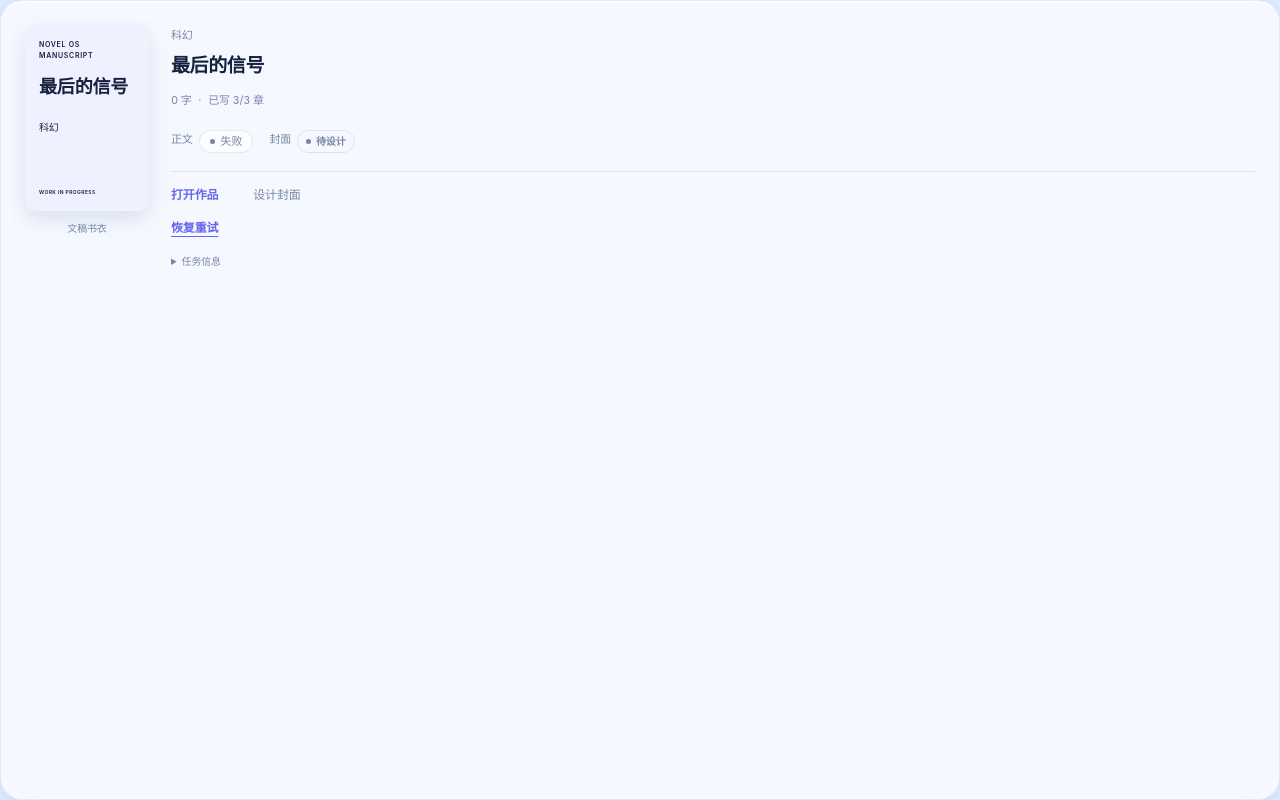
Test: keeps the failed card visible and retryable when resume fails
The width and height of the screenshot is (1280, 800).
Click the button "恢复重试" at (195, 228), box [171,215,218,241]
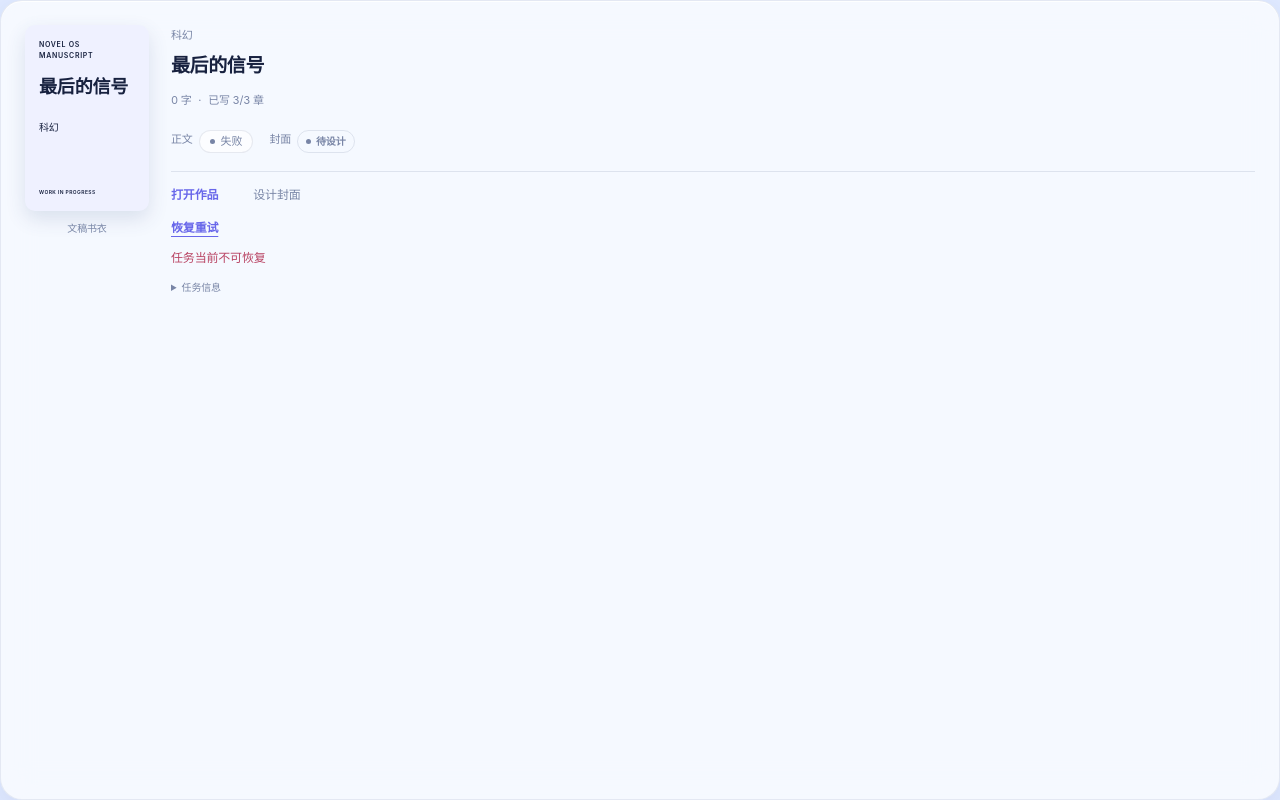
Expected: the heading "最后的信号" is shown, [171,54,264,76]
Expected: the message reads "任务当前不可恢复", [171,250,266,265]
